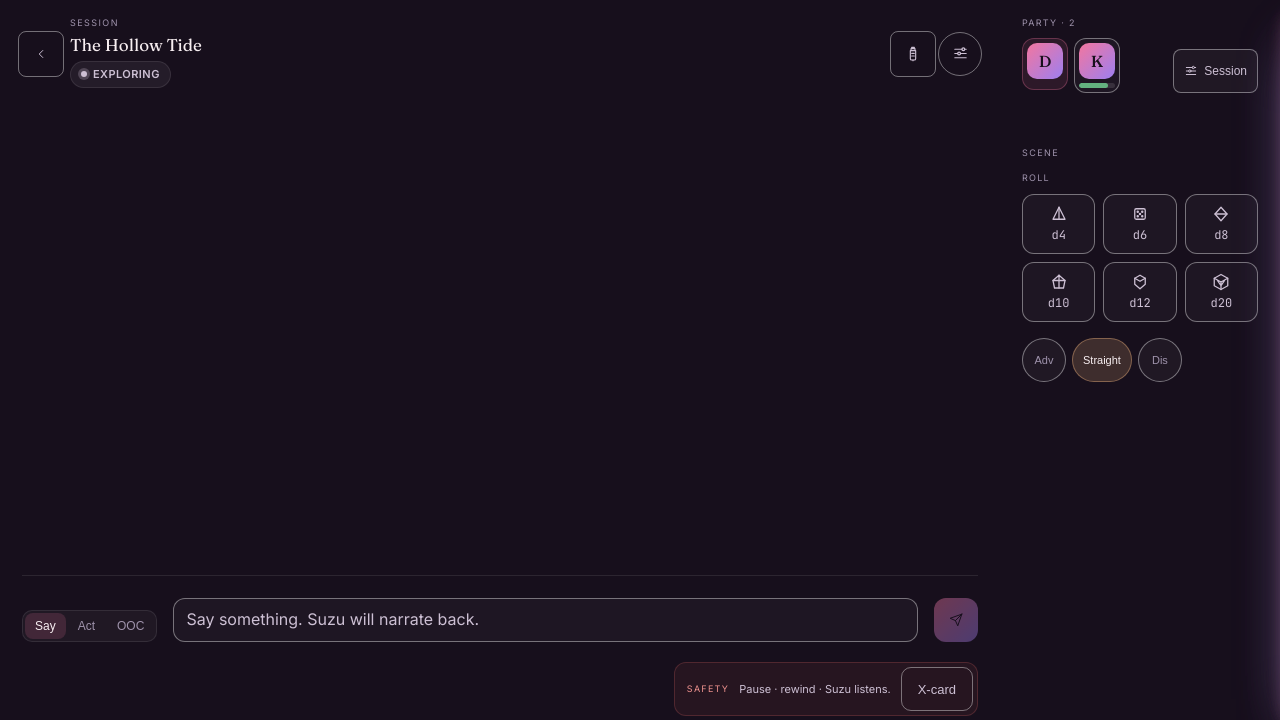
Scenario: /play real-page: live regions survive a layout flip (never remount) › AI assist off (the pill is the announcer): every live region is the same node after Story -> Table -> Auto
Expected: the text "The Hollow Tide" is shown, x1=70 y1=32 x2=202 y2=57
Click the button named "Appearance settings" at (960, 54), box x1=938 y1=32 x2=982 y2=76
(page scrolled)
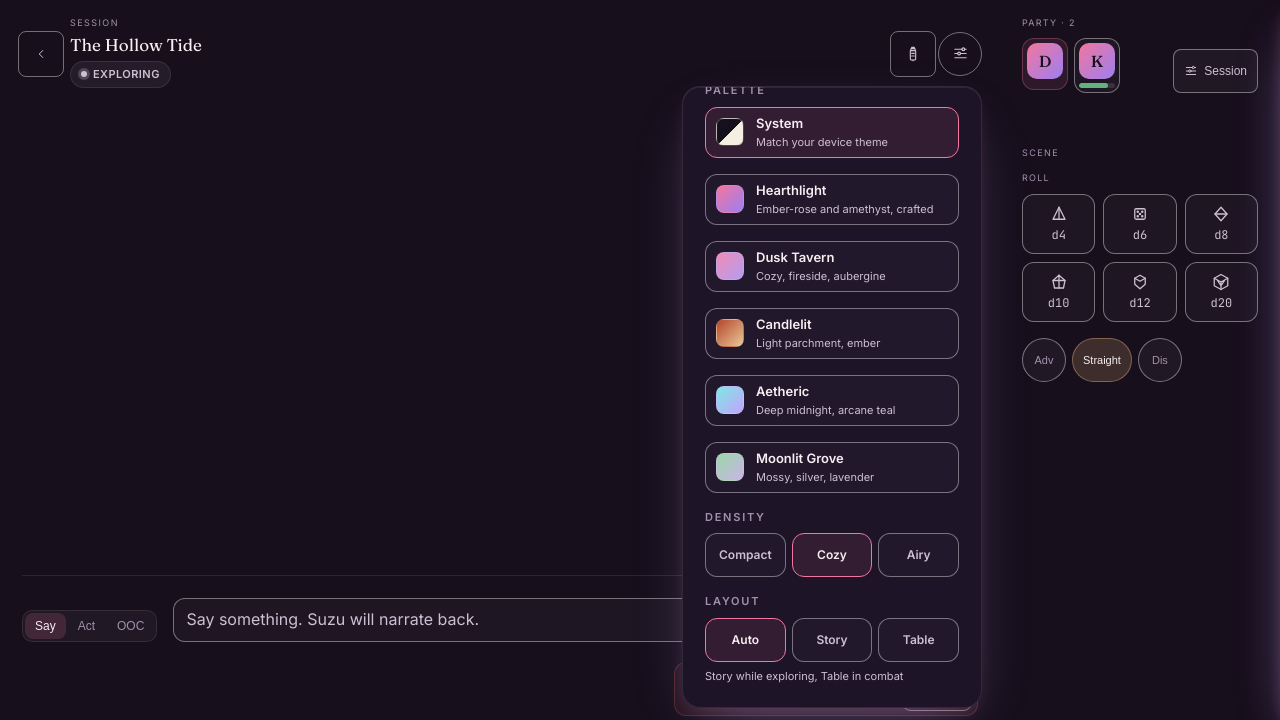
Click the radio button labelled "Table" at (919, 640), box x1=878 y1=618 x2=959 y2=662
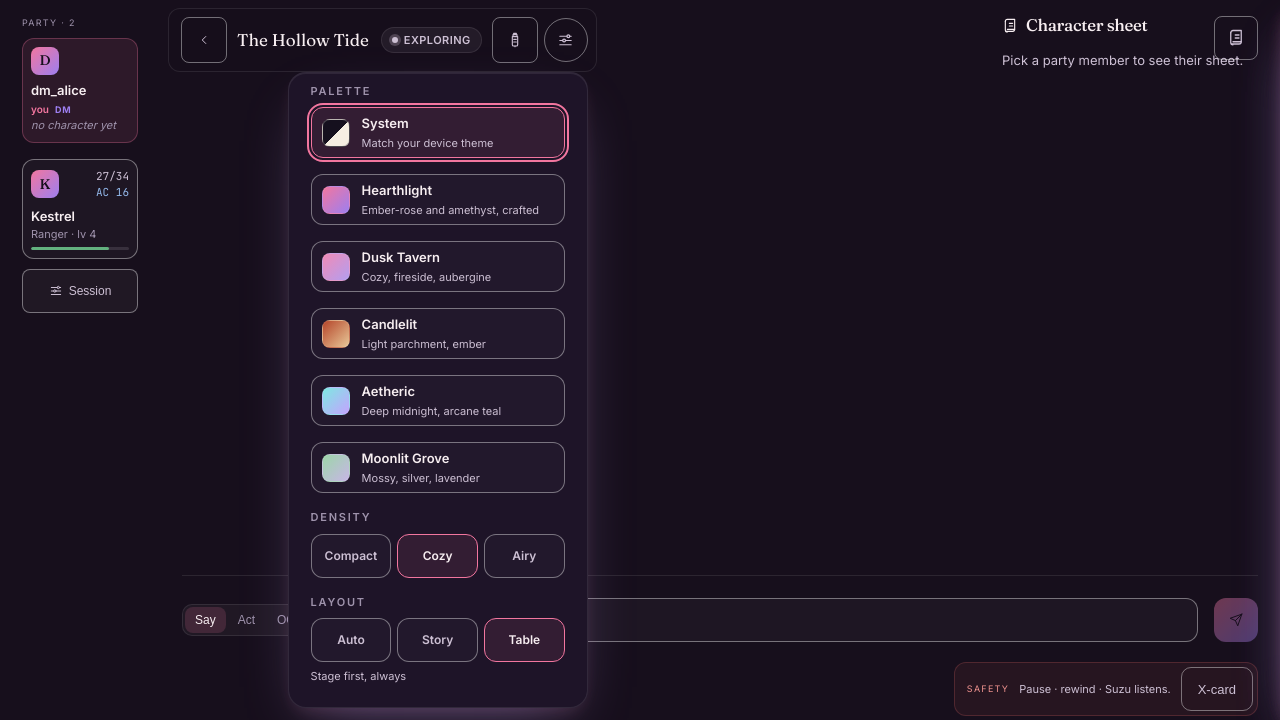
Now the element that starts with "Skip to actions" has attribute data-layout-resolved="table"
Press Escape in the dialog "Appearance", box x1=288 y1=72 x2=588 y2=708
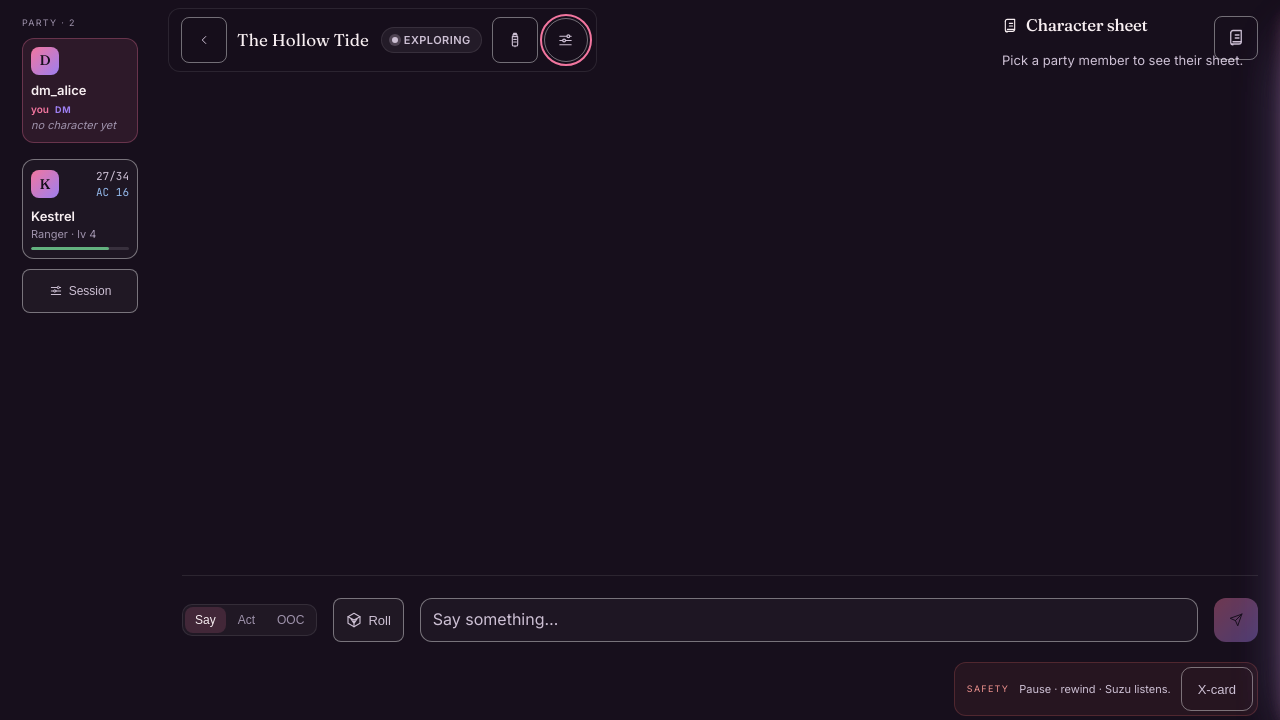
Expected: the dialog "Appearance" is not shown
Now the element showing "The Hollow Tide exploring" has attribute data-variant="compact", box x1=168 y1=8 x2=597 y2=72
Click the button named "Appearance settings" at (566, 40), box x1=544 y1=18 x2=588 y2=62
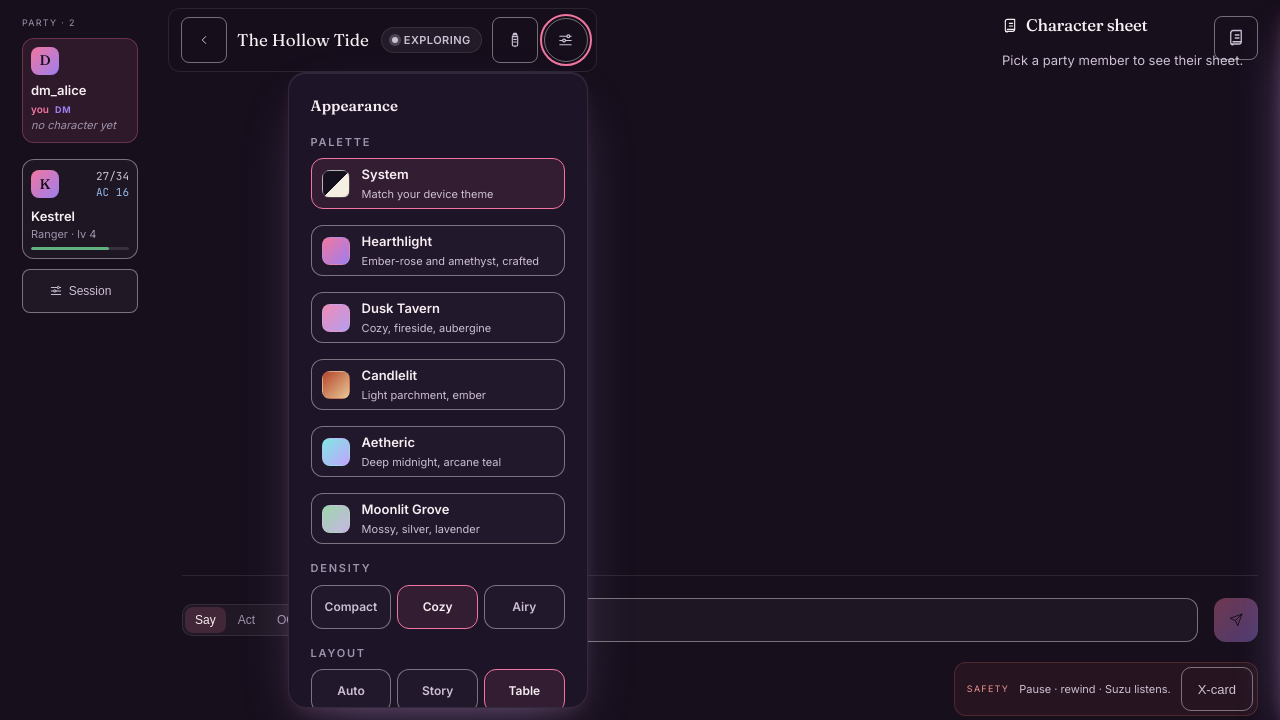
Click the radio button labelled "Auto" at (351, 691), box x1=311 y1=669 x2=391 y2=713
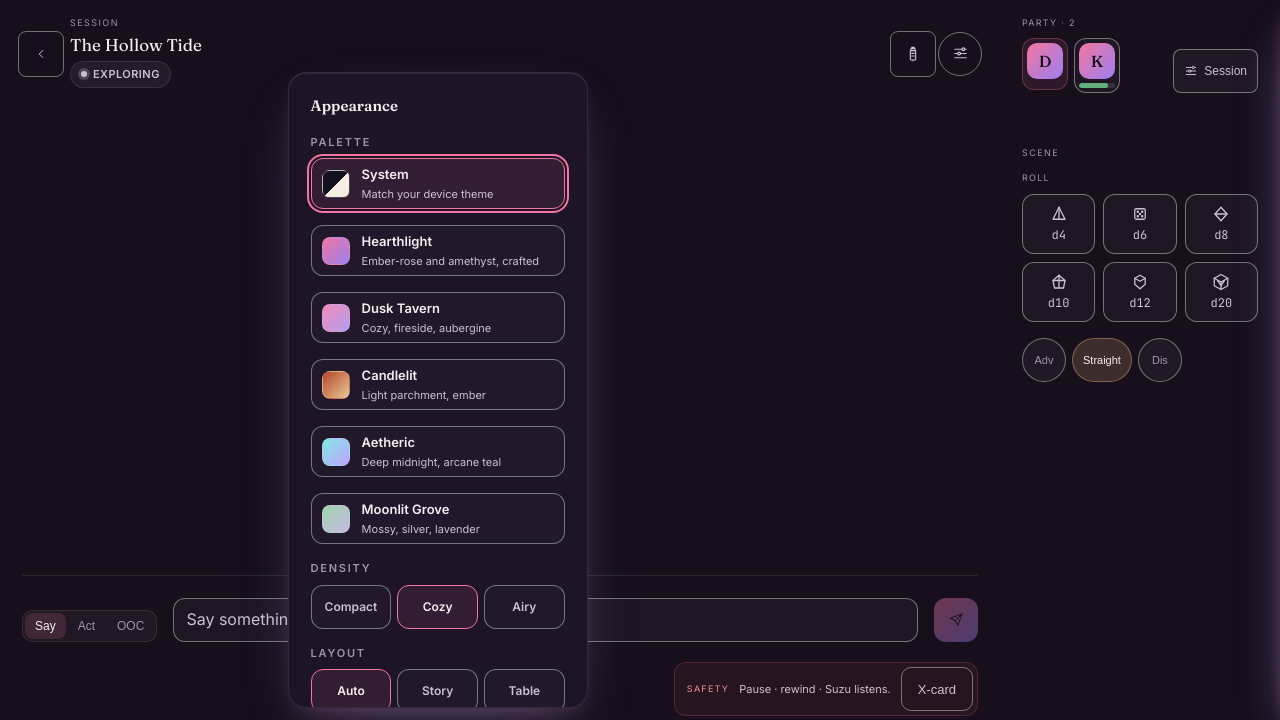
Now the element that starts with "Skip to actions" has attribute data-layout-resolved="story"
Press Escape in the dialog "Appearance", box x1=288 y1=72 x2=588 y2=708
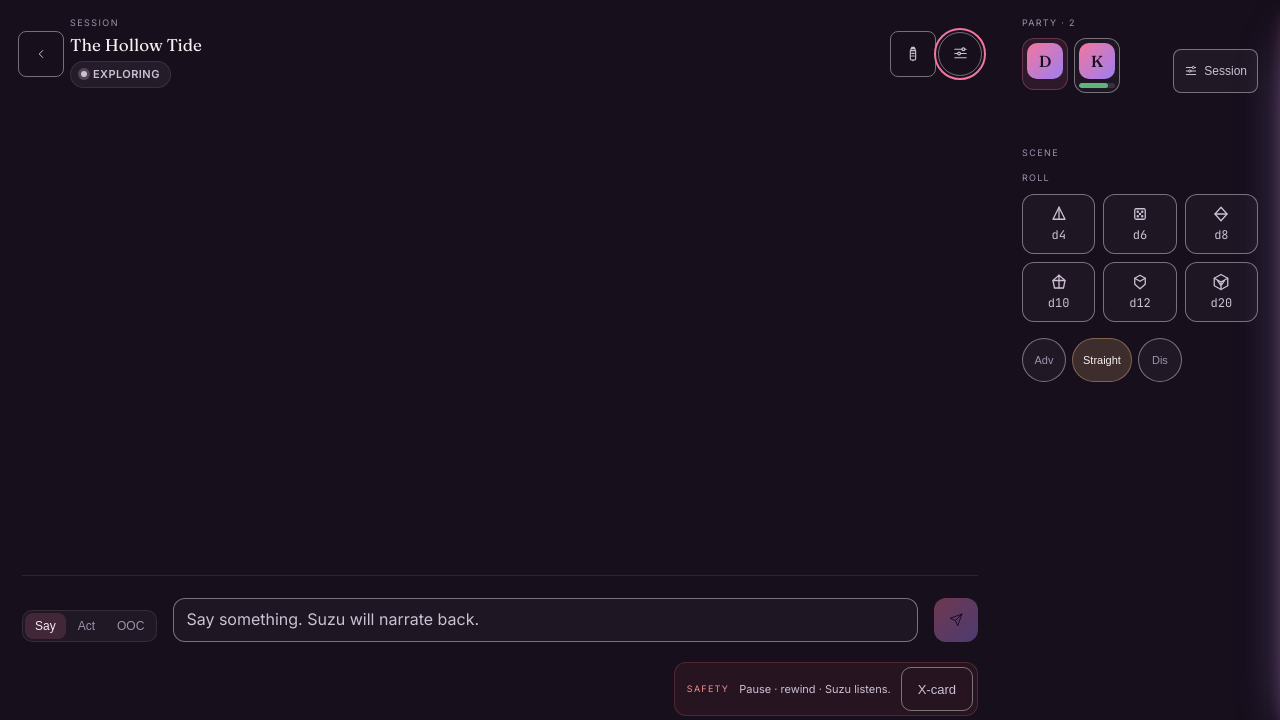
Now the text "Appearance" is gone
